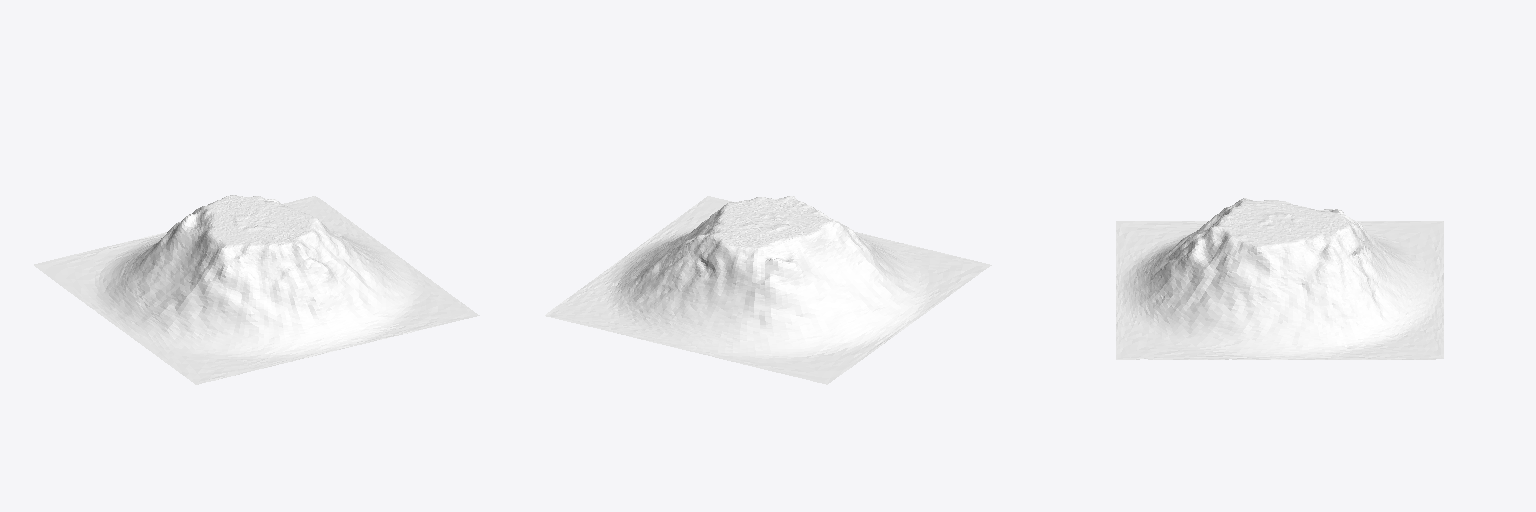
File: hill.obj
The picture shows the model from 3 angles: view 1: azimuth 30°, elevation 25°; view 2: azimuth 150°, elevation 25°; view 3: azimuth 270°, elevation 25°; orthographic projection.
Visible parts, largest first — view 1: hill; view 2: hill; view 3: hill.
Boxes of the visible parts, <box> form: hill: <box>34,195,479,384</box>; hill: <box>545,196,991,384</box>; hill: <box>1116,198,1443,359</box>.
Bounding box in the file's own units: 44.29 × 10.31 × 44.29.